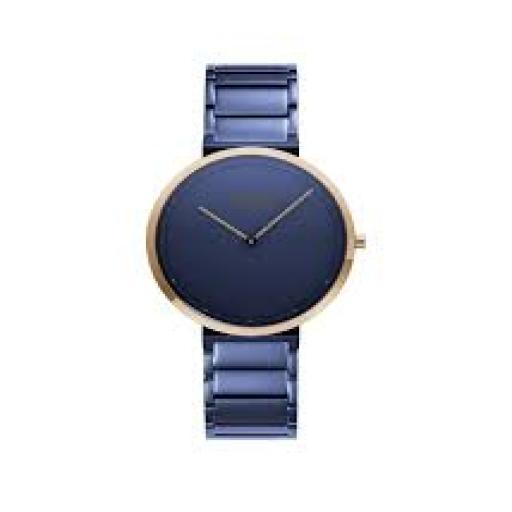KolSaati: (128, 40, 390, 460)
